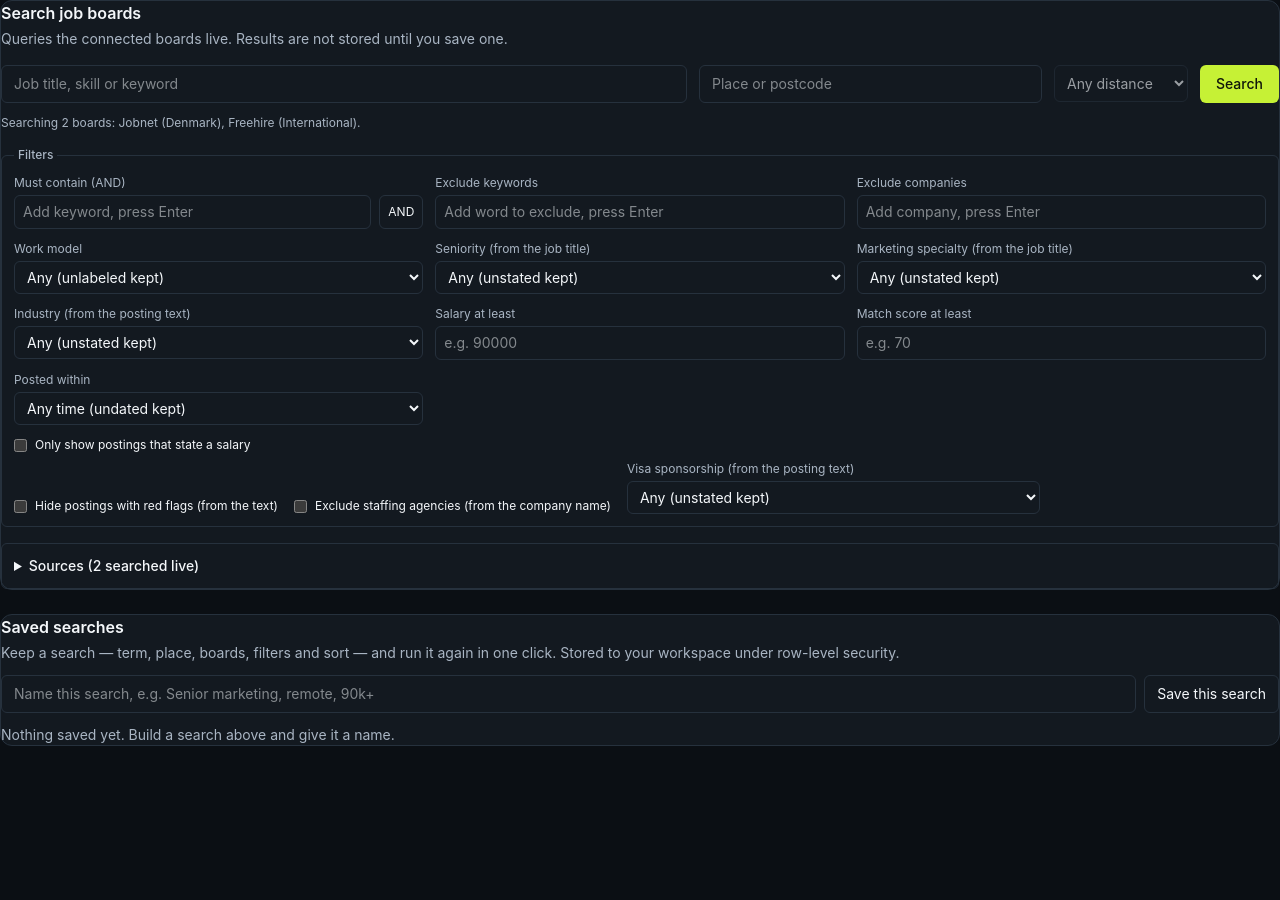
Test: the search panel › shows the board's own total, so a sample is not read as the whole
Expected: the text "Searching 2 boards:" is shown, [1,115,360,130]
Type "engineer" into the search field with placeholder "Job title, skill or keyword". click: (344, 84)
box: [1,65,687,103]
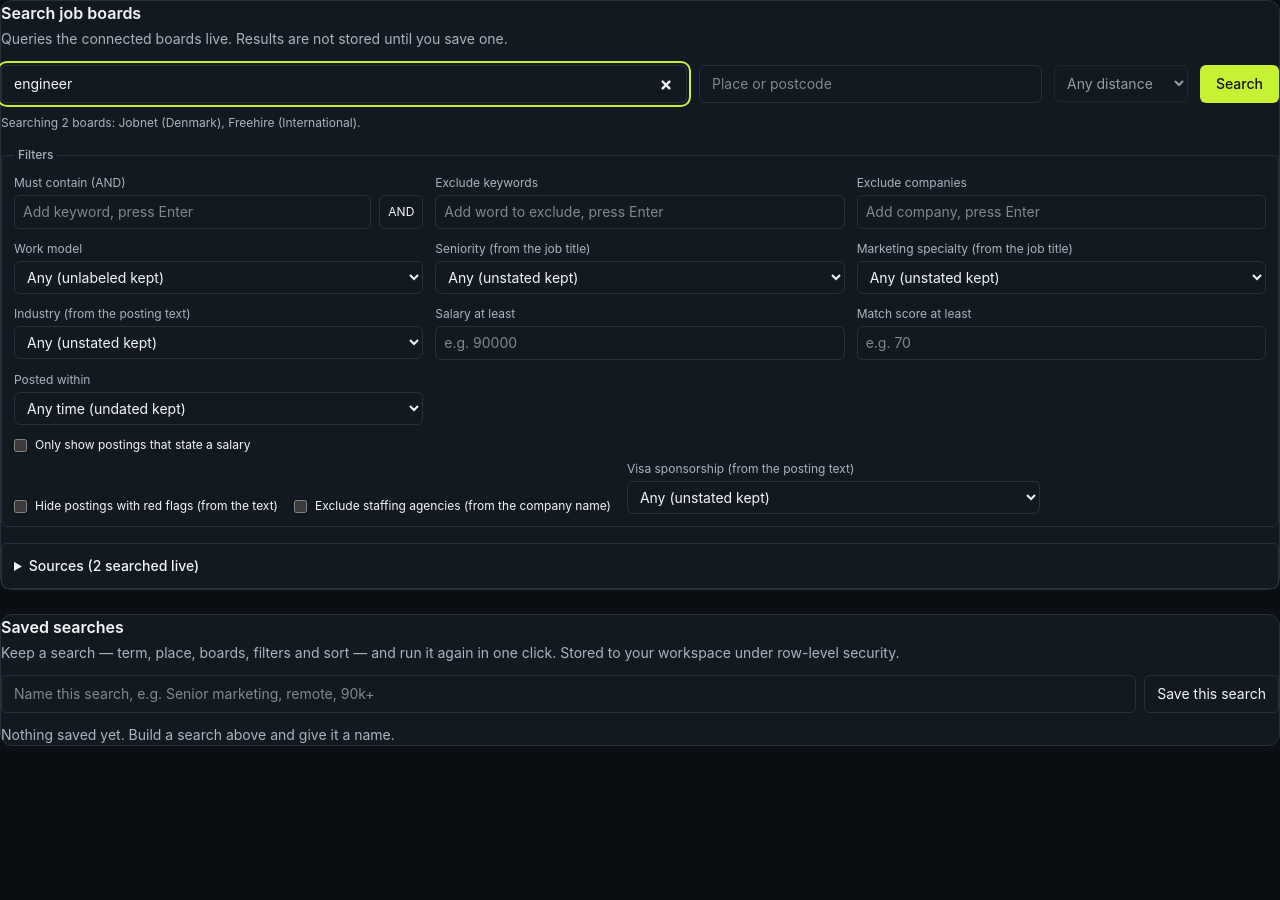
Click the button "Search". click: (1240, 84)
box: [1200,65,1279,103]
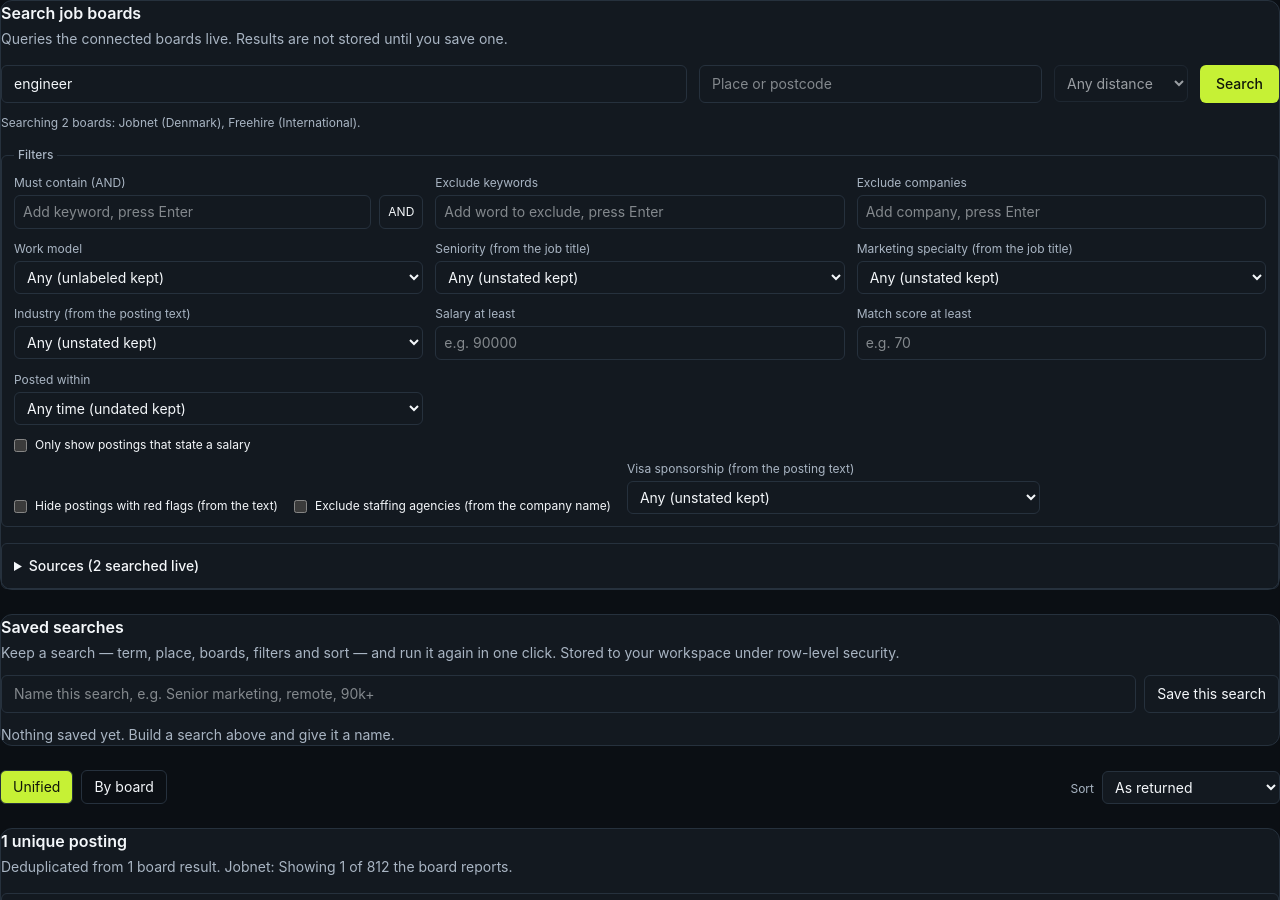
Now the text "Showing 1 of 812 the board reports" is shown, box [1,858,512,875]
